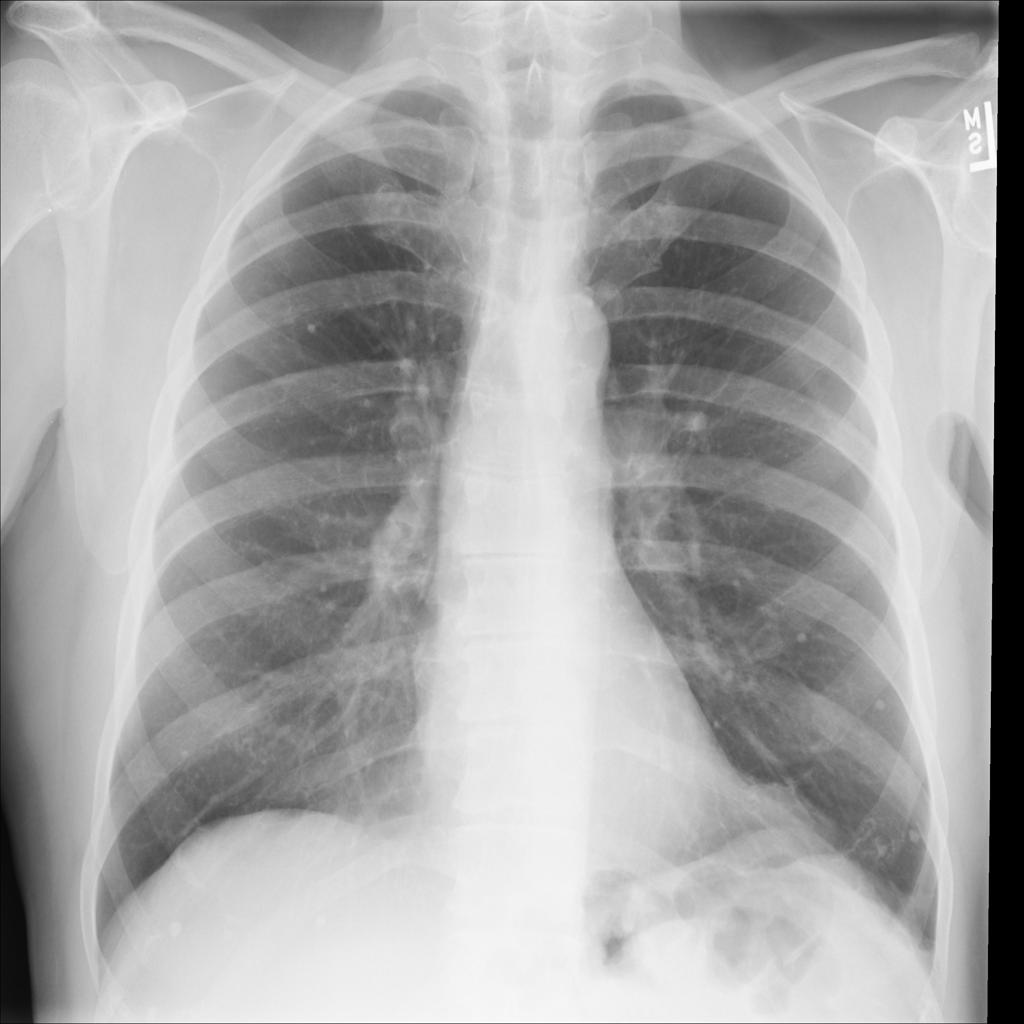nodule: (281, 296, 330, 348), (862, 684, 897, 723), (906, 822, 929, 848)
